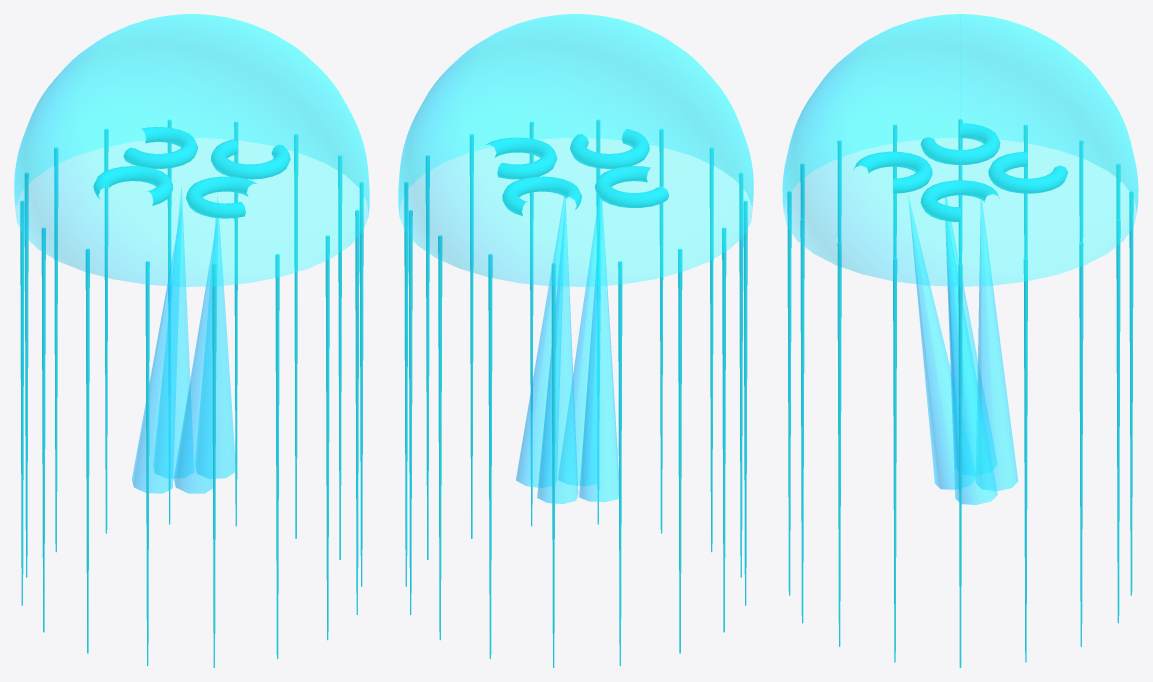
File: jellyfish.glb
3 renders of one model, left to right at view 1: azimuth 30°, elevation 25°; view 2: azimuth 150°, elevation 25°; view 3: azimuth 270°, elevation 25°, orthographic.
Parts seen in each view (by area): view 1: Bell, Tentacles, OralArms, Gonads; view 2: Bell, Tentacles, OralArms, Gonads; view 3: Bell, OralArms, Tentacles, Gonads.
Boxes of the visible parts, x1,y1,x2,y2 form: Bell: (14, 14, 369, 286); Tentacles: (20, 119, 363, 667); OralArms: (132, 187, 236, 493); Gonads: (93, 127, 290, 218); Bell: (398, 14, 753, 286); Tentacles: (404, 119, 747, 667); OralArms: (516, 197, 618, 503); Gonads: (486, 129, 669, 216); Bell: (782, 14, 1138, 286); OralArms: (908, 197, 1018, 504); Tentacles: (787, 119, 1133, 667); Gonads: (854, 123, 1067, 222).
Size of the model in its own units: 2 by 3.5 by 2.
